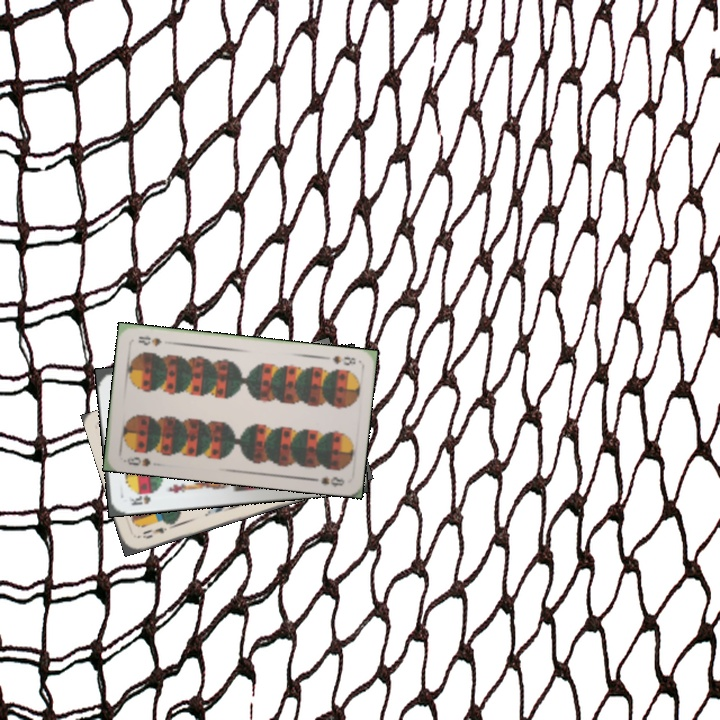EO: (138, 523, 170, 541)
S8: (119, 453, 153, 469), (329, 352, 358, 368)
SK: (126, 491, 153, 508)
